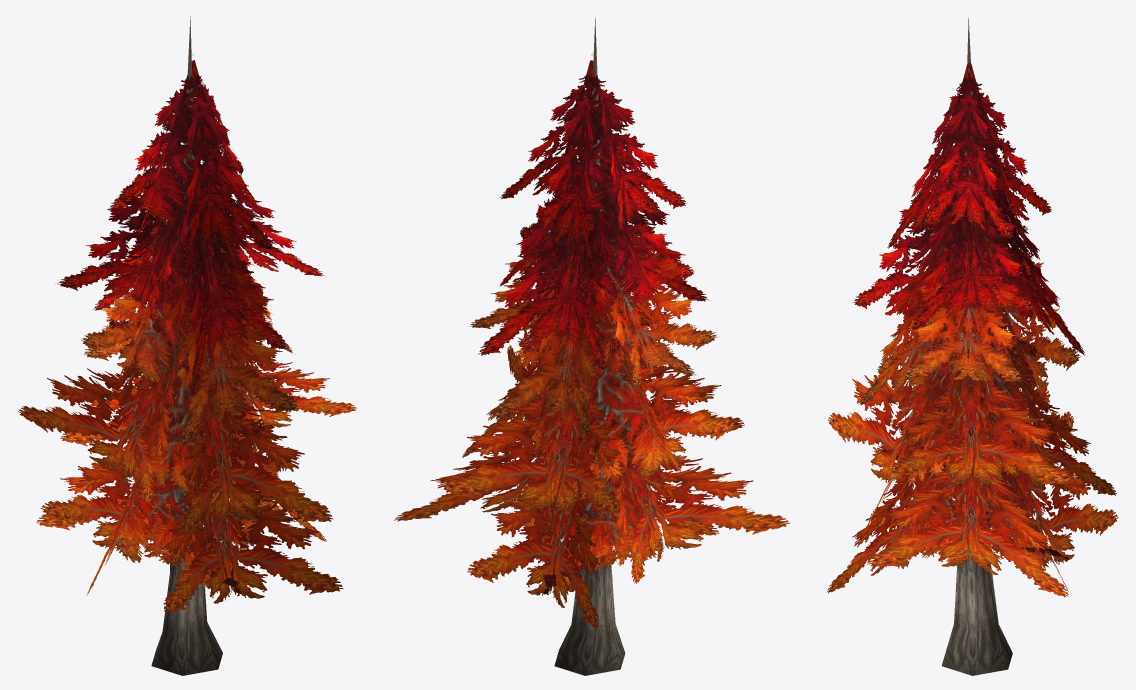
Rendered from alteractree09.obj.
3 views of the same model, side by side, from view 1: azimuth 30°, elevation 25°; view 2: azimuth 150°, elevation 25°; view 3: azimuth 270°, elevation 25° (orthographic).
Visible parts, largest first — view 1: ALTERACTREE091, ALTERACTREE092, ALTERACTREE090; view 2: ALTERACTREE091, ALTERACTREE092, ALTERACTREE090; view 3: ALTERACTREE091, ALTERACTREE092, ALTERACTREE090.
Boxes of the visible parts, x1,y1,x2,y2 form: ALTERACTREE091: (18,221,356,612); ALTERACTREE092: (55,54,324,387); ALTERACTREE090: (151,16,222,675); ALTERACTREE091: (394,222,789,628); ALTERACTREE092: (478,54,710,370); ALTERACTREE090: (554,18,625,675); ALTERACTREE091: (826,226,1118,597); ALTERACTREE092: (851,56,1085,355); ALTERACTREE090: (941,18,1012,675).
Size of the model in its own units: 45.26 by 90.28 by 37.89.
3 materials, 3 textured.
